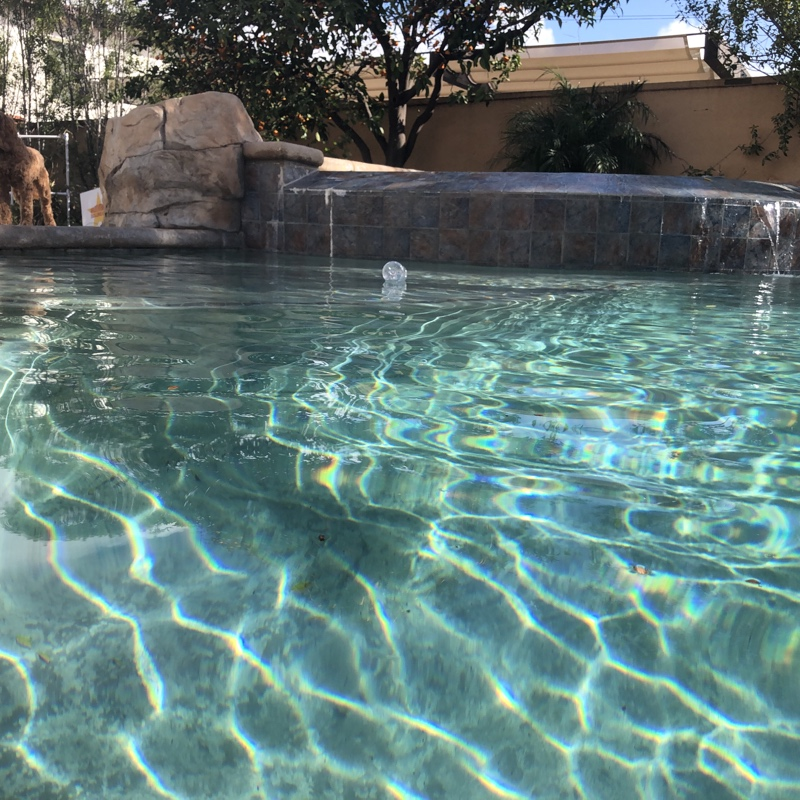Plastic Bottle: (378, 259, 411, 287)
